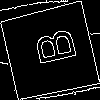B: (24, 26, 77, 69)
